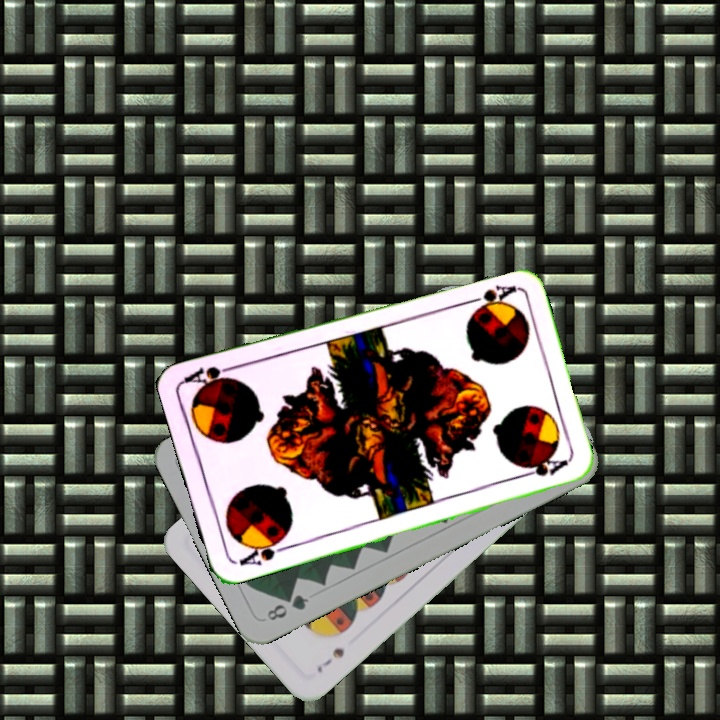G8: (263, 590, 312, 624)
S7: (312, 643, 347, 675)
SA: (235, 533, 291, 569), (460, 280, 519, 313)
